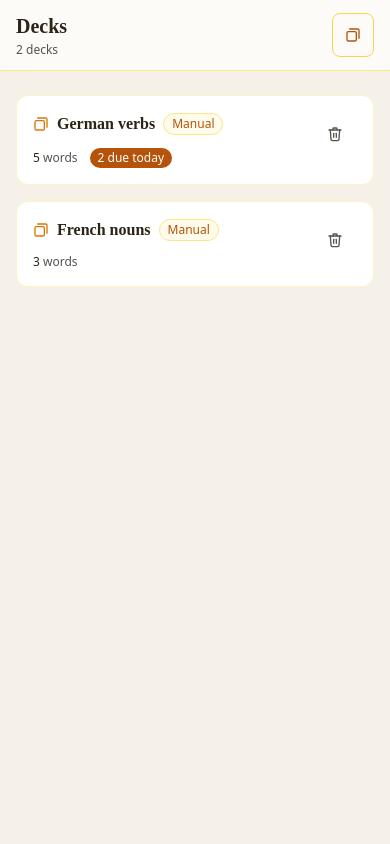
Scenario: deleting a second deck while first toast shows commits the first delete
Expected: the heading "German verbs" is shown, left=57, top=112, right=155, bottom=136
Note: Delete deck A → toast shows for "German verbs"
Click the button with test id "deck-delete-1". click: (335, 134)
box: left=313, top=112, right=357, bottom=156
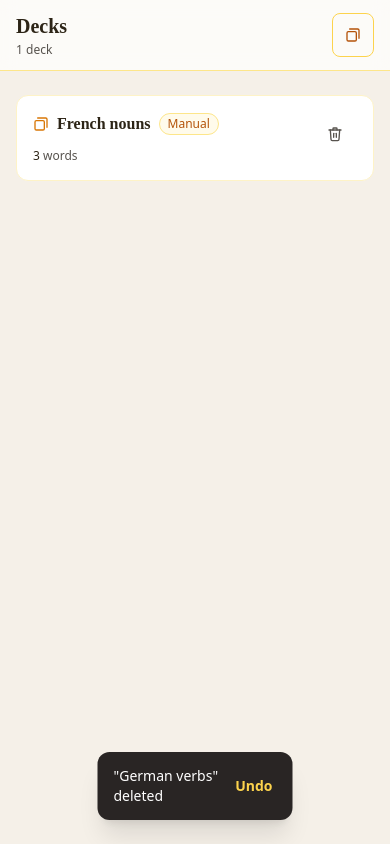
Expected: the text "\"German verbs\" deleted" is shown, left=114, top=766, right=219, bottom=806
Note: Delete deck B while the first toast is still showing
Click the button with test id "deck-delete-2". click: (335, 134)
box: left=313, top=112, right=357, bottom=156
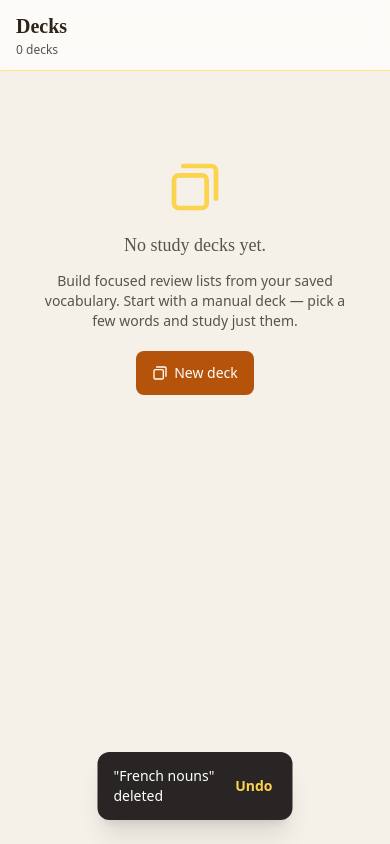
Expected: the text "\"French nouns\" deleted" is shown, left=114, top=766, right=219, bottom=806
